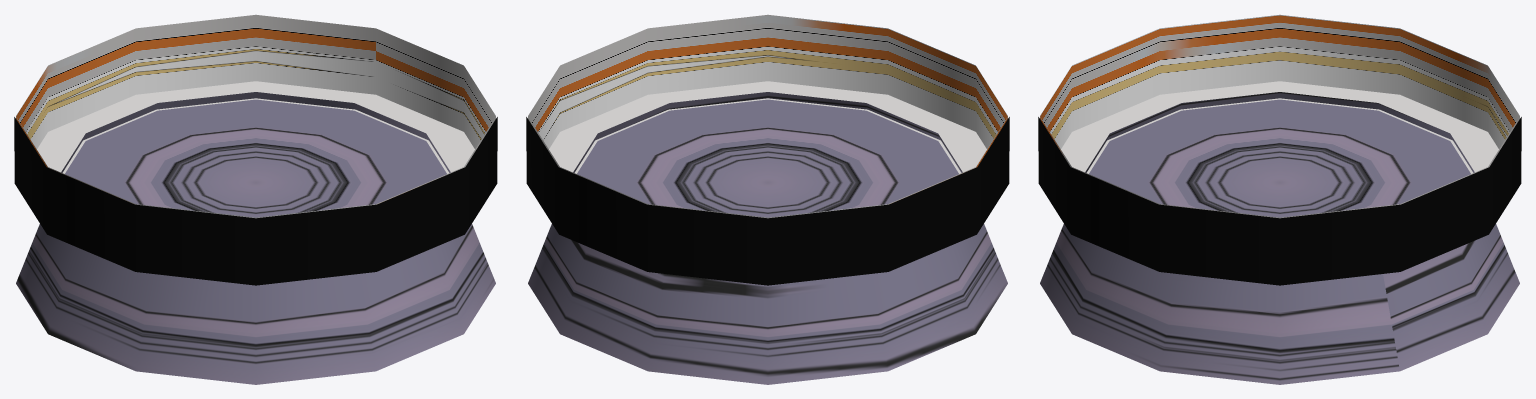
The model's file is Propellant.glb.
3 views of the same model, side by side, from view 1: azimuth 30°, elevation 25°; view 2: azimuth 150°, elevation 25°; view 3: azimuth 270°, elevation 25° (orthographic).
Parts seen in each view (by area): view 1: Propellant; view 2: Propellant; view 3: Propellant.
Boxes of the visible parts, x1,y1,x2,y2 form: Propellant: (14,14,497,384); Propellant: (526,14,1009,384); Propellant: (1038,14,1521,384).
Bounding box in the file's own units: 2.98 × 1.14 × 2.98.
Materials: 3 (2 with a texture image).
